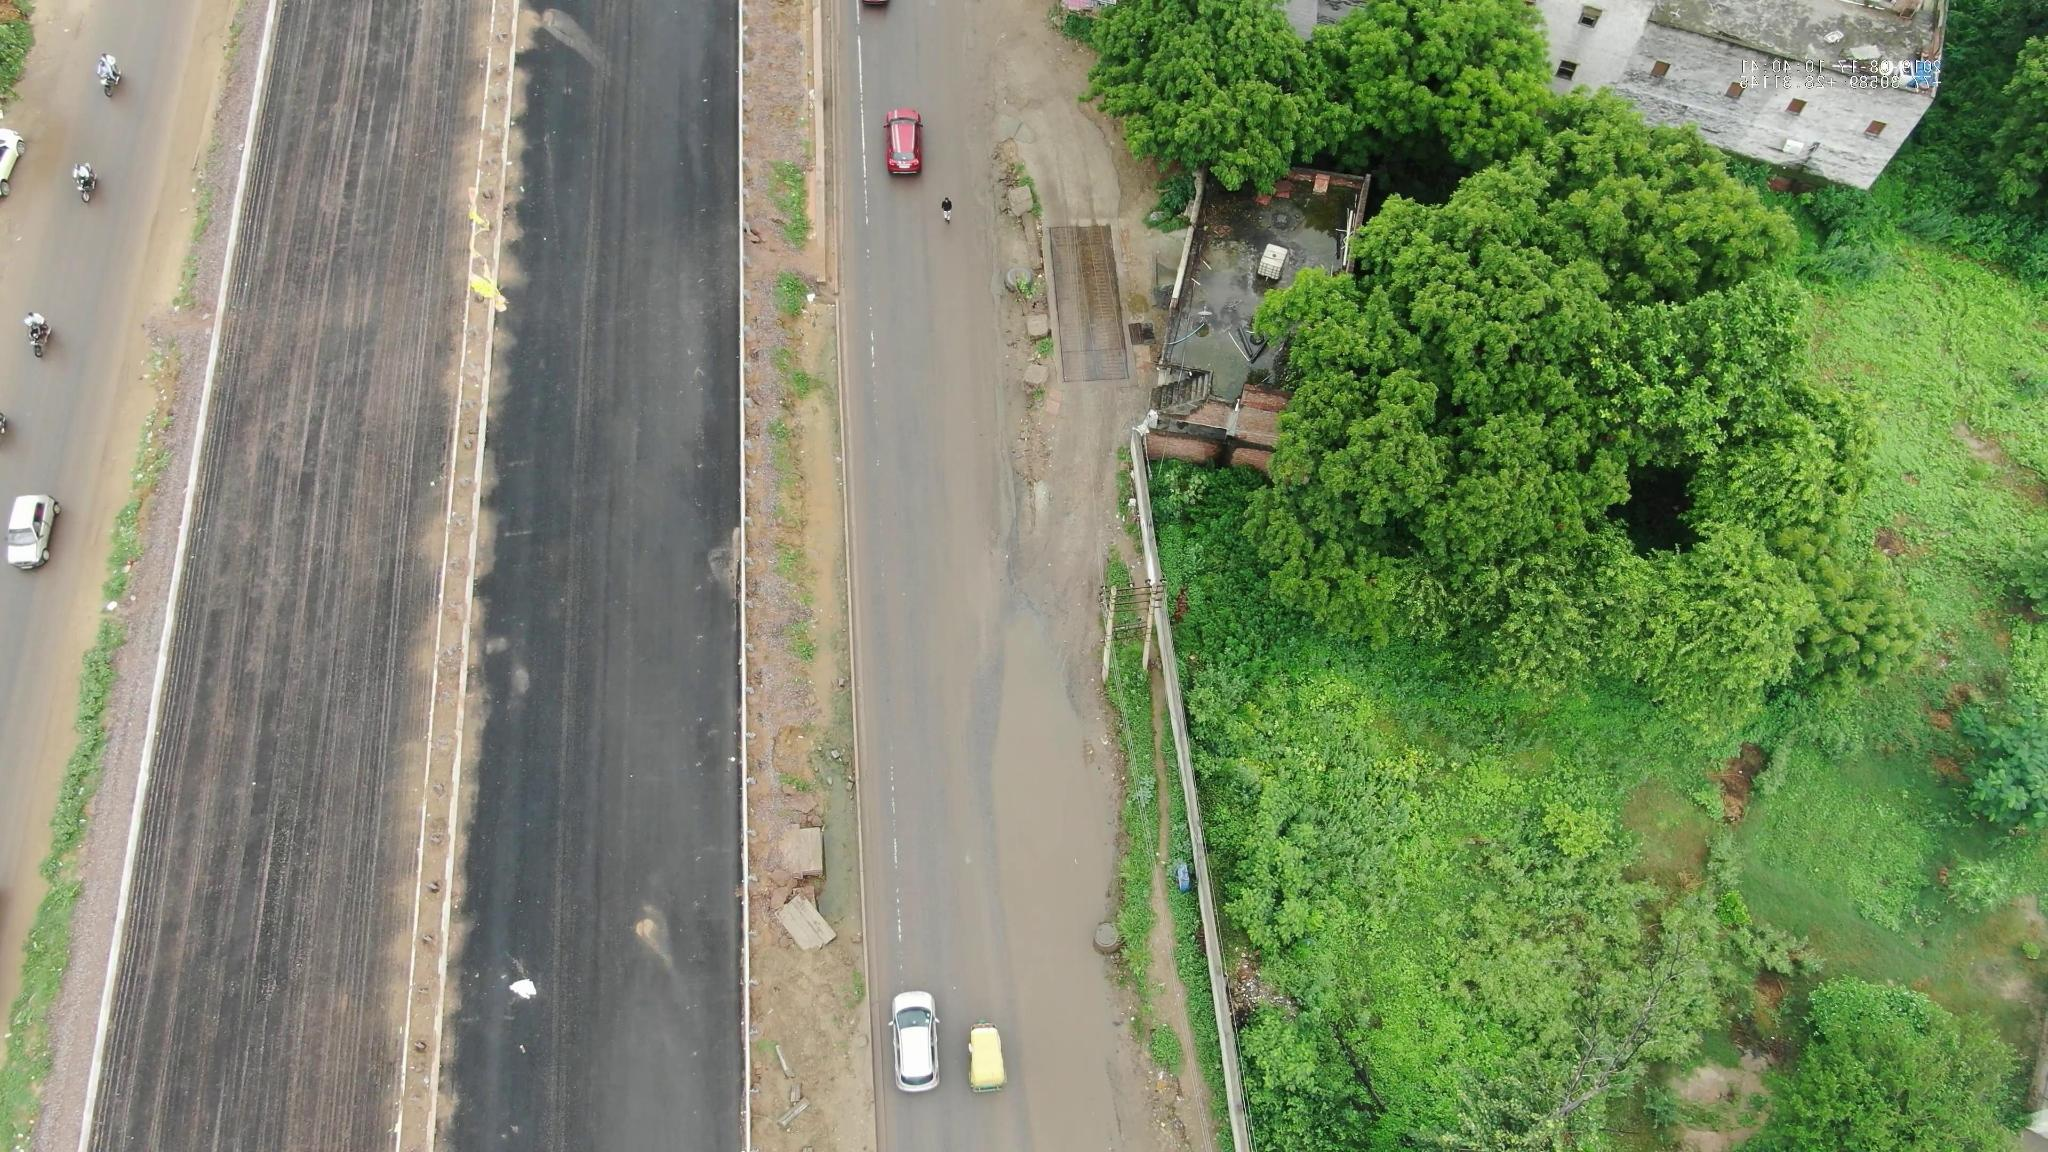Waterlogging: (980, 601, 1145, 1148)
